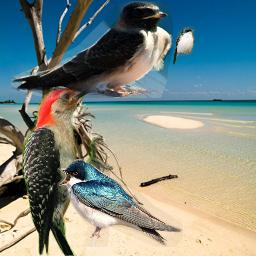Swallow: (9, 1, 173, 98), (57, 158, 183, 247), (173, 26, 195, 65)
Woodpecker: (22, 83, 114, 256)
